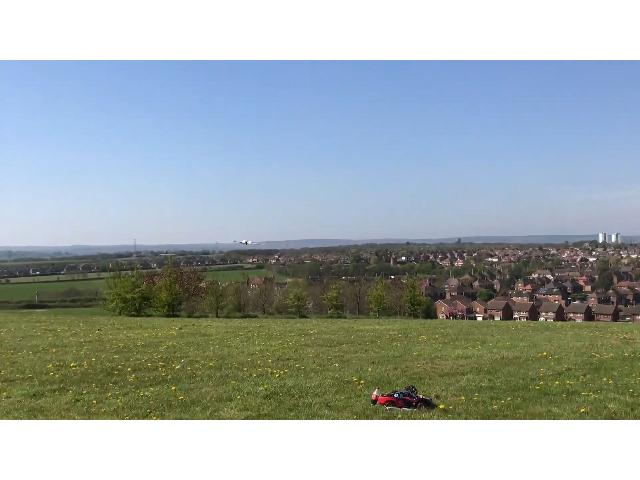Anti-Drone: (228, 232, 270, 253)
